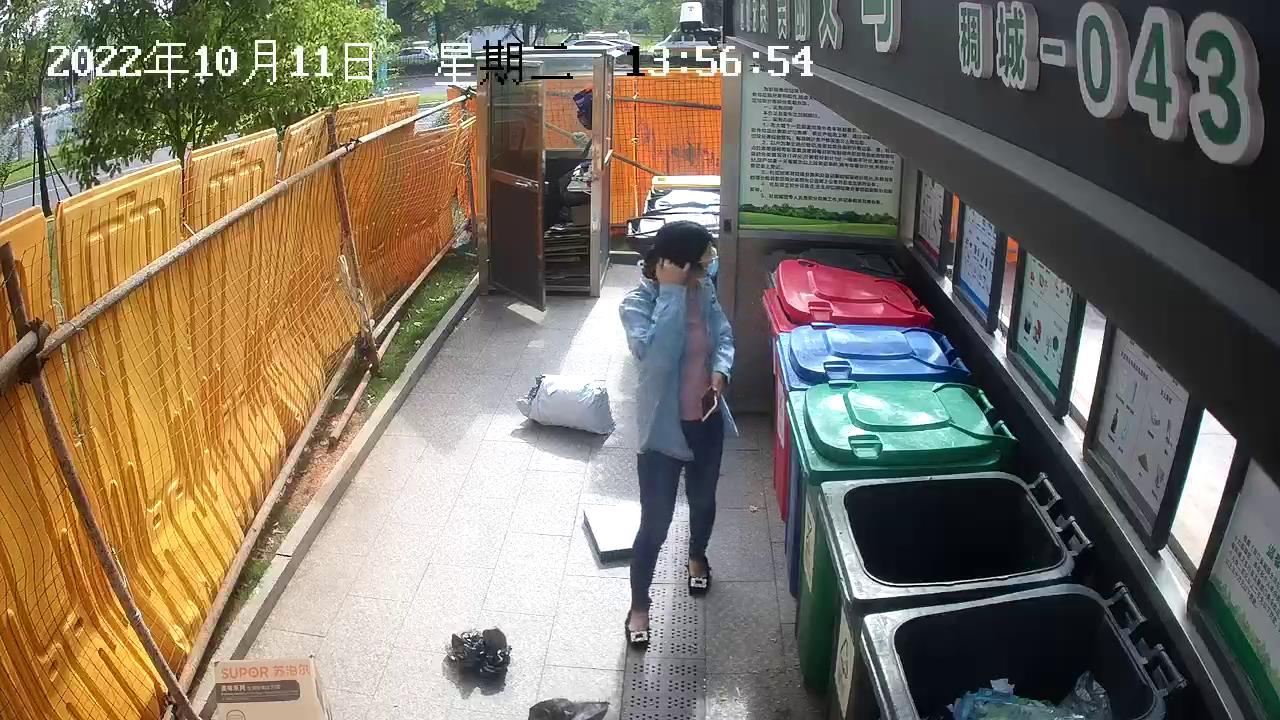garbage: (512, 368, 620, 441), (444, 621, 517, 682)
worker: (614, 217, 747, 655)
zhizhipin: (208, 650, 340, 720)
